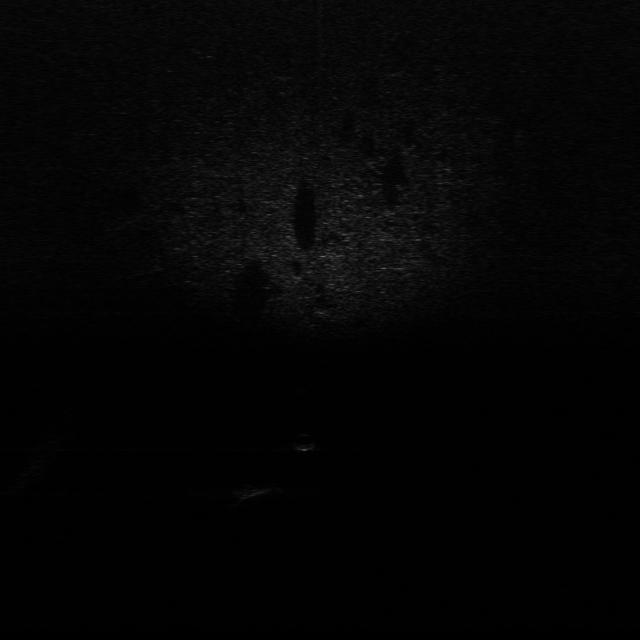ball: (288, 429, 322, 453)
square cage: (230, 482, 280, 502)
